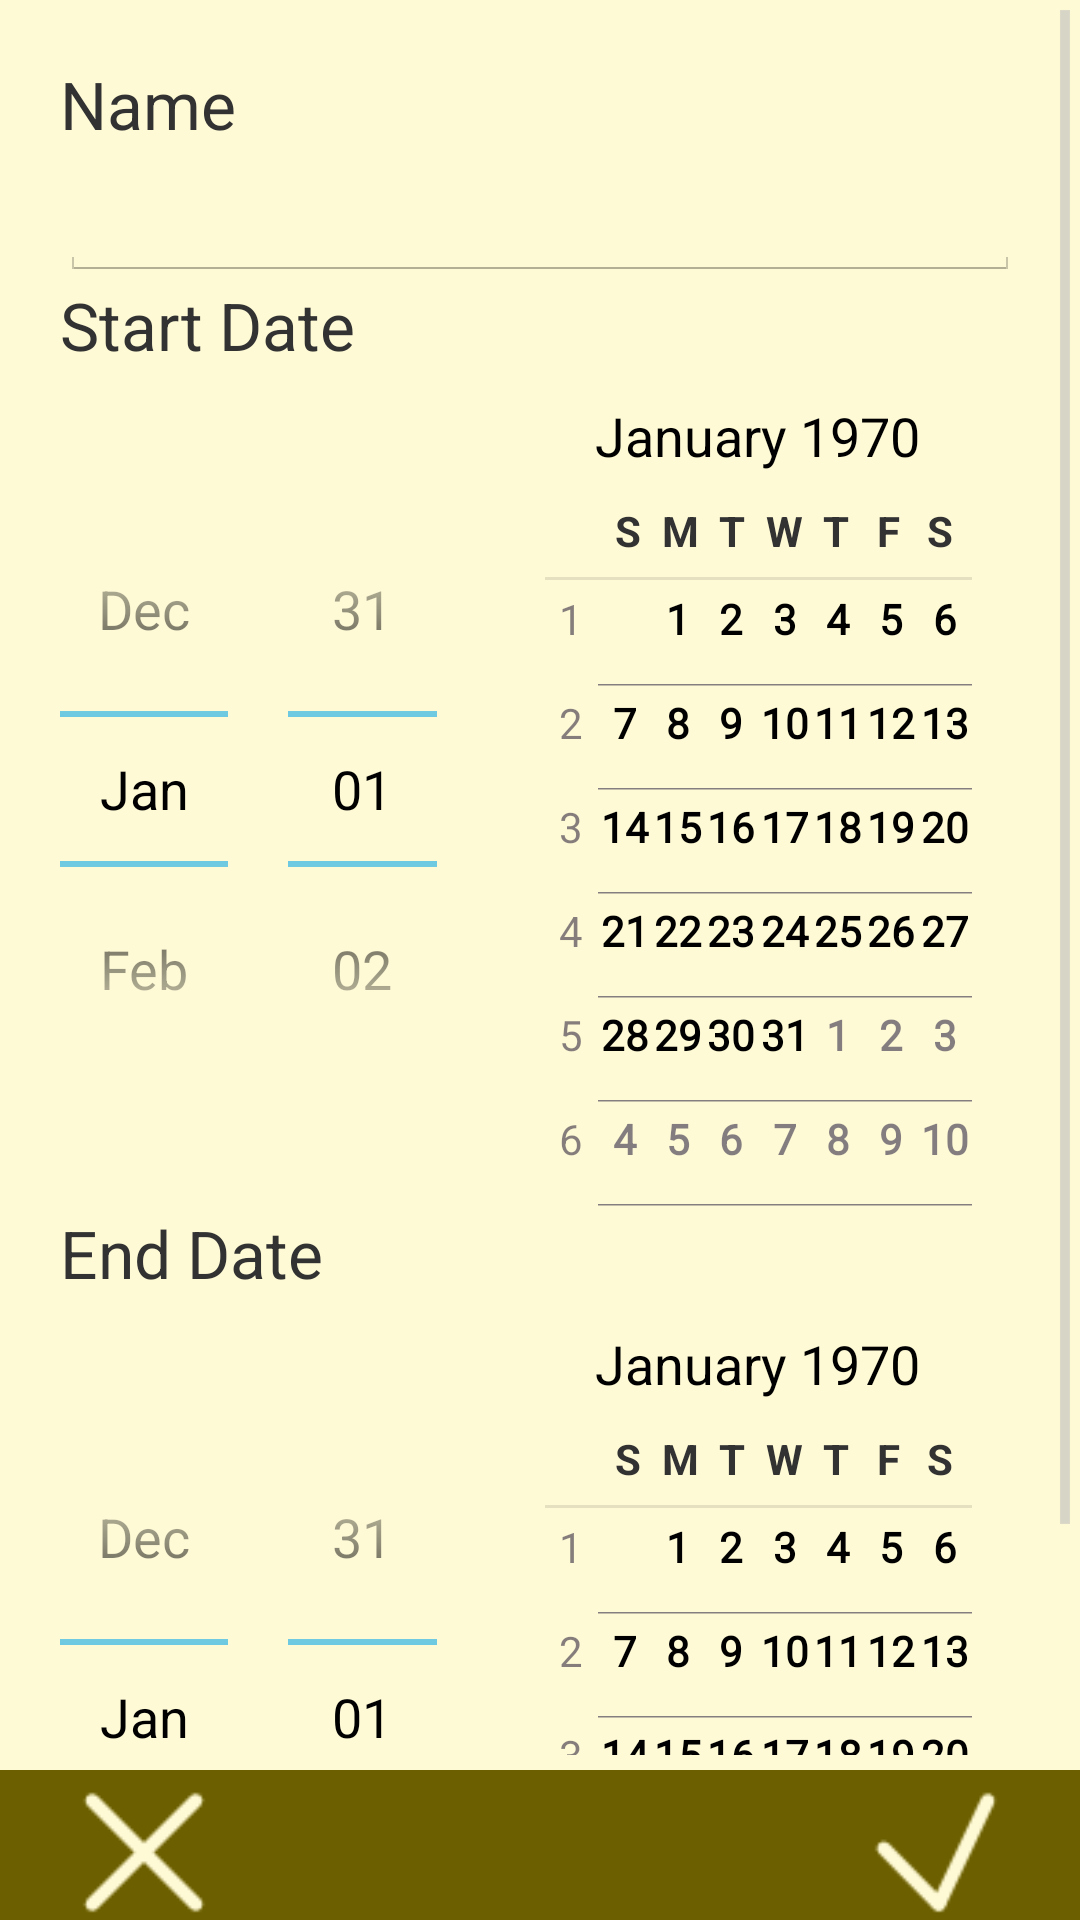

Icons on this 1080*1920 Android screen, each with its box as [x1, y1, x2, y2]:
cancel: [83, 1792, 204, 1912]
